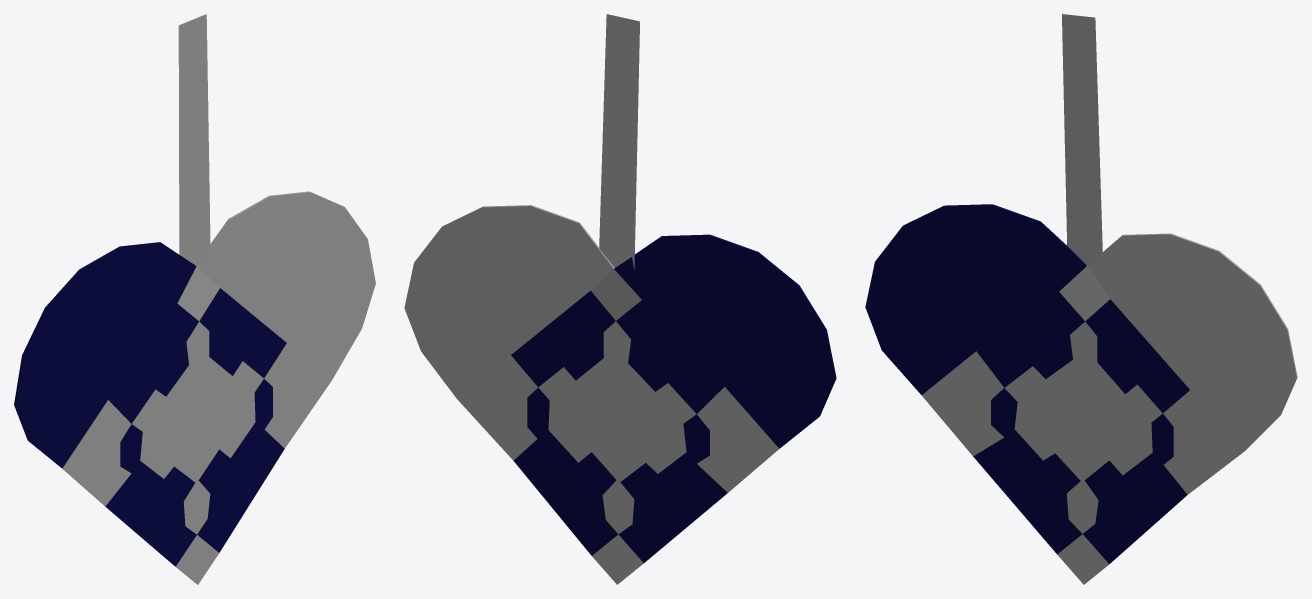
File: heart18.glb
The picture shows the model from 3 angles, left to right: view 1: azimuth 30°, elevation 25°; view 2: azimuth 150°, elevation 25°; view 3: azimuth 330°, elevation 25°; orthographic projection.
Visible parts, largest first — view 1: heart18; view 2: heart18; view 3: heart18.
Part boxes in pixels (x1,y1,x2,y2): heart18: (14, 14, 375, 584); heart18: (404, 14, 836, 584); heart18: (865, 14, 1297, 584).
Bounding box in the file's own units: 0.1351 × 0.185 × 0.0214.
